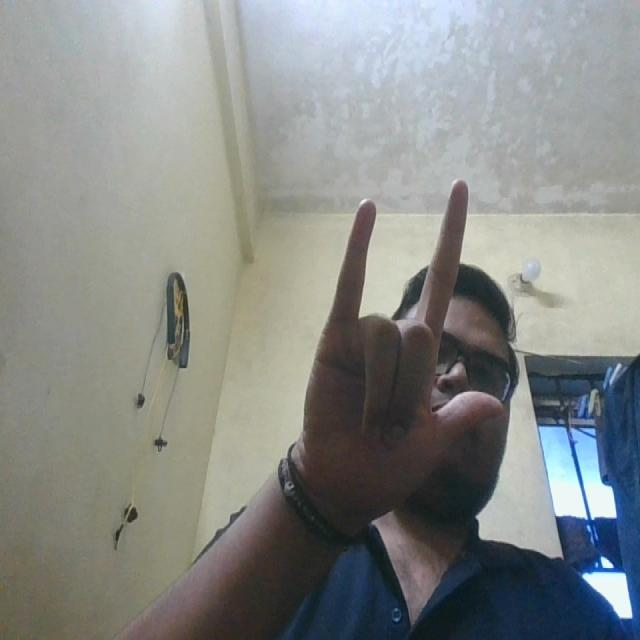iloveyou: (290, 178, 521, 530)
